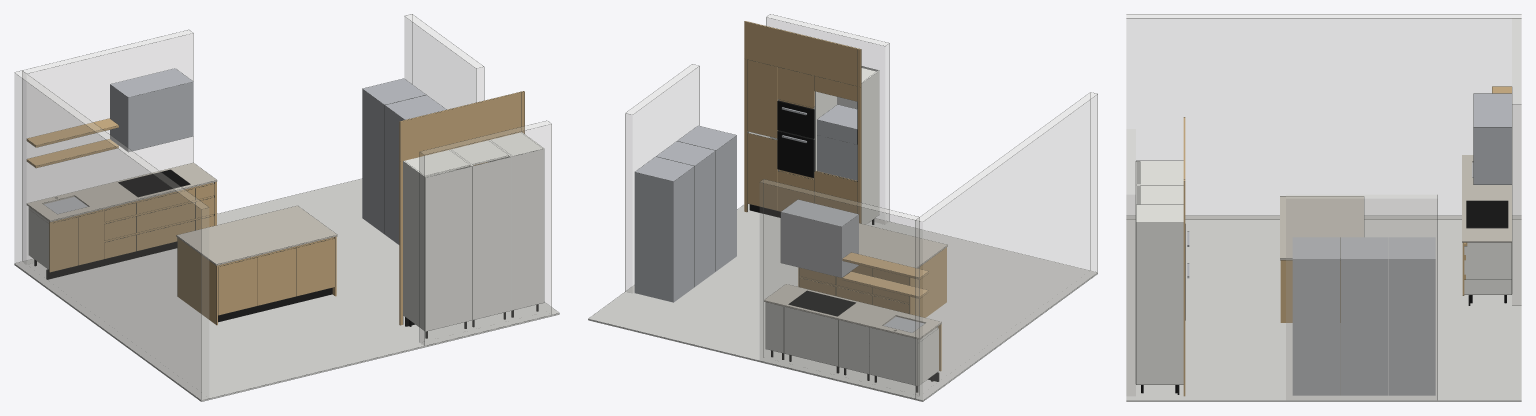
File: modell.glb
3 renders of one model, left to right at view 1: azimuth 30°, elevation 25°; view 2: azimuth 150°, elevation 25°; view 3: azimuth 270°, elevation 25°, orthographic. The views are drawn at different scales.
Bounding box in the file's own units: 5498 × 3007 × 4976.
